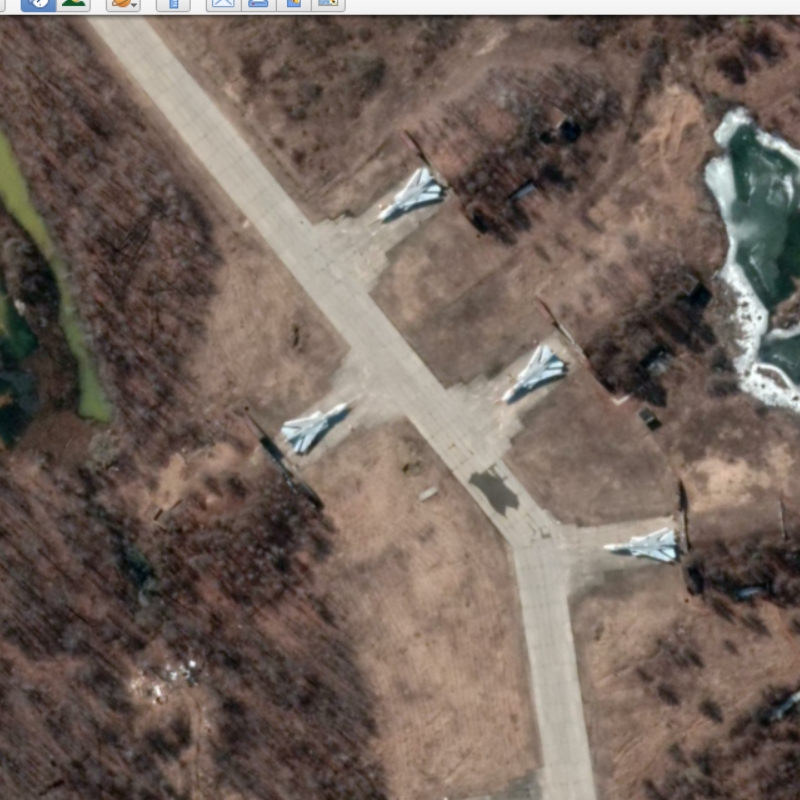A20: (500, 343, 566, 404), (375, 165, 444, 221), (279, 401, 350, 454), (601, 525, 679, 565)
